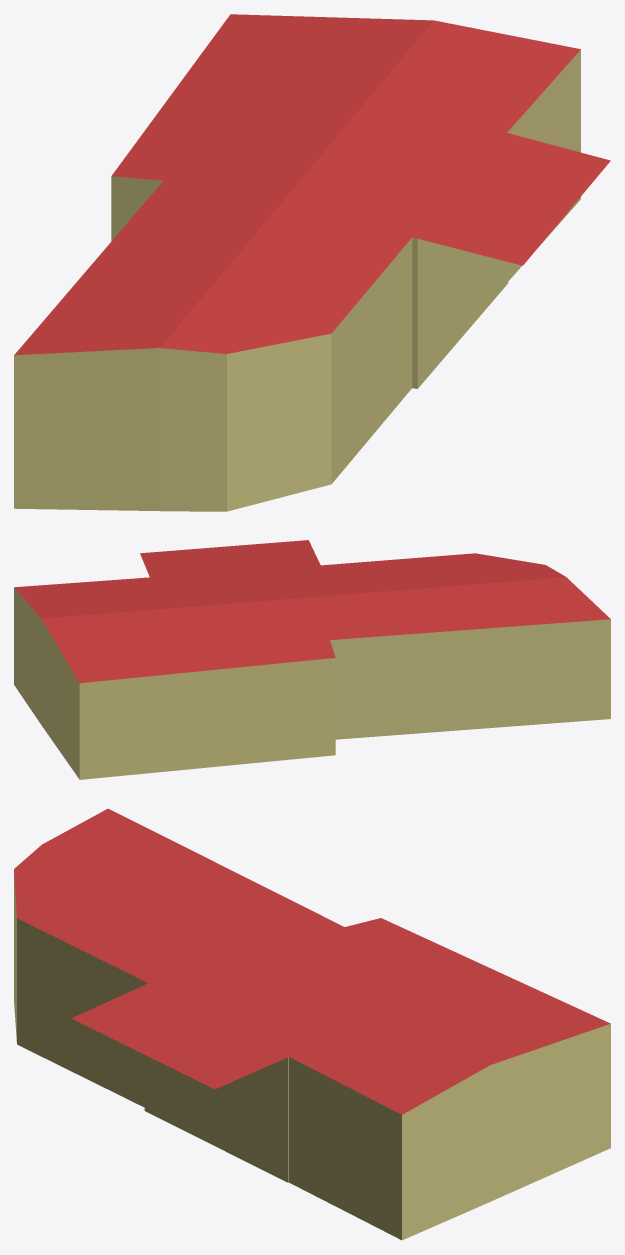
The picture shows the model from 3 angles, top to bottom: view 1: azimuth 30°, elevation 25°; view 2: azimuth 150°, elevation 25°; view 3: azimuth 270°, elevation 25°; orthographic projection. The views are drawn at different scales.
Visible parts, largest first — view 1: group_3, group_7, group_5, group_8, group_4; view 2: group_8, group_7, group_3, group_5, group_4; view 3: group_5, group_3, group_7, group_8, group_4.
Part boxes in pixels (x1,y1,x2,y2): group_3: [160, 20, 610, 353]; group_7: [14, 14, 433, 355]; group_5: [159, 50, 580, 511]; group_8: [14, 176, 163, 510]; group_4: [420, 134, 608, 265]; group_8: [41, 619, 610, 779]; group_7: [41, 577, 610, 683]; group_3: [14, 540, 566, 618]; group_5: [14, 587, 41, 724]; group_4: [141, 540, 319, 574]; group_5: [14, 872, 490, 1240]; group_3: [14, 844, 489, 1114]; group_7: [43, 808, 610, 1064]; group_8: [490, 1024, 610, 1201]; group_4: [73, 986, 280, 1088].
Bounding box in the file's own units: 44.81 × 37.26 × 9.41.
